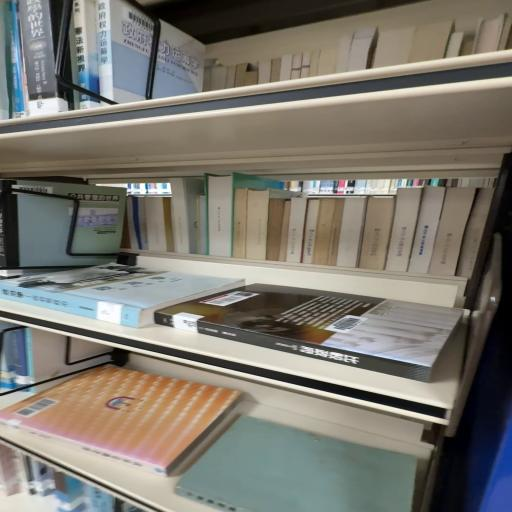flat: (155, 284, 464, 382), (0, 367, 242, 475), (174, 416, 416, 512), (0, 263, 245, 328)
